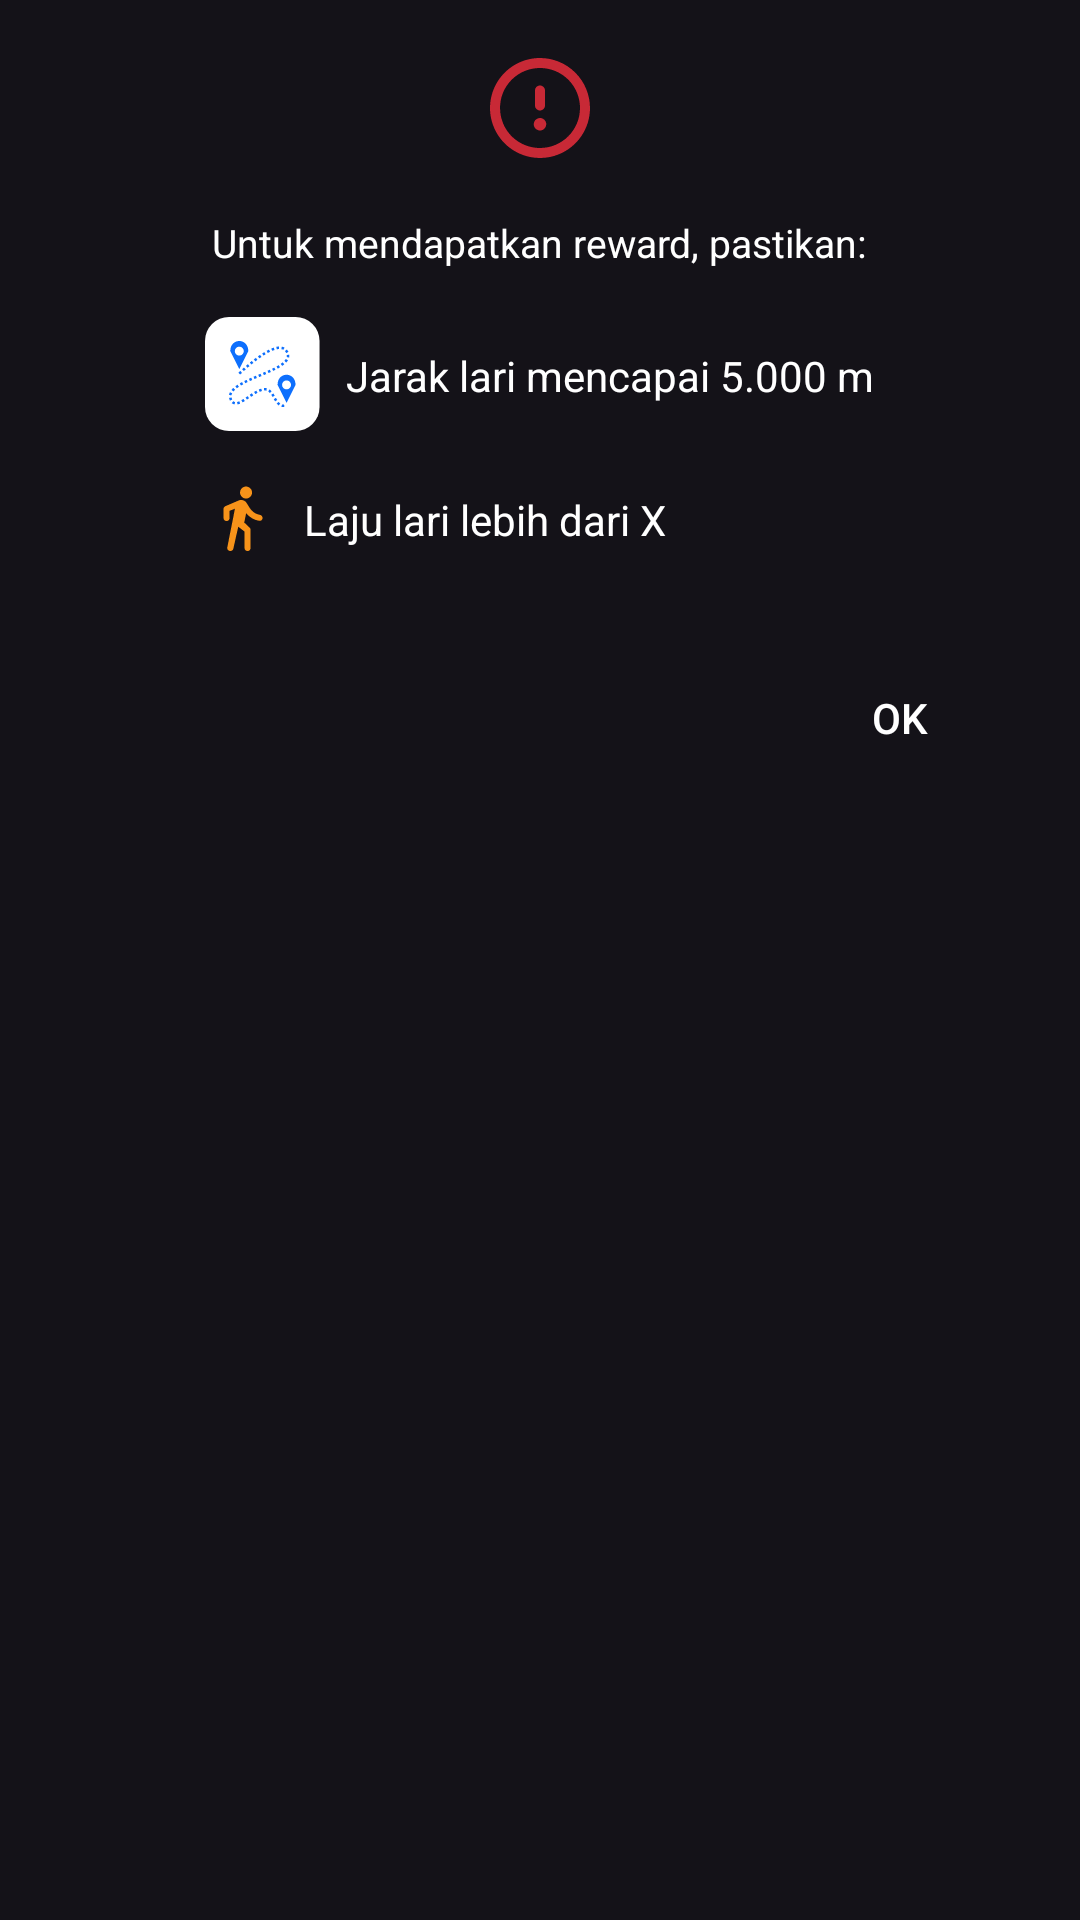

Icon click points for this 1080*1920 phone screenshot, format point (x, y):
activity walk: point (243, 518)
alert: point (540, 108)
distance: point (262, 374)
